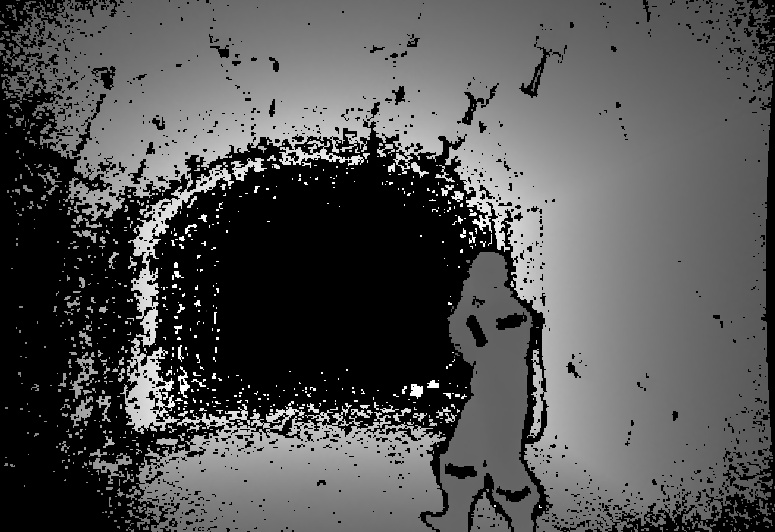person: (425, 252, 541, 532)
